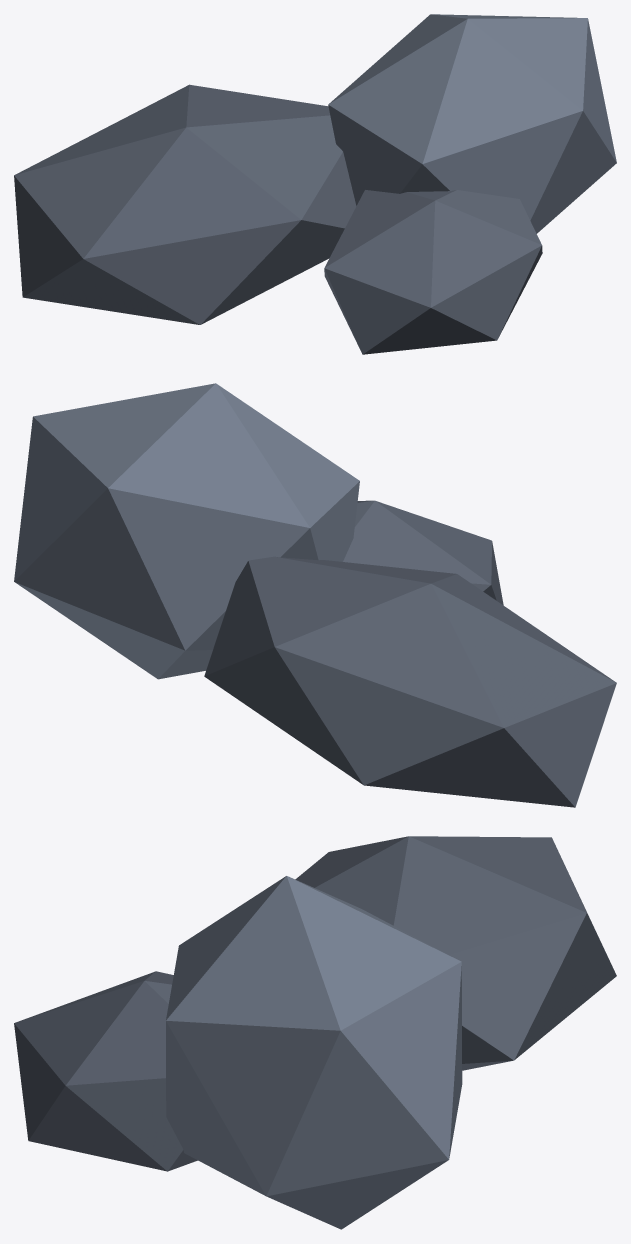
Rendered from EXTW_WestCluster_00.glb.
3 views of the same model, one above another, from view 1: azimuth 30°, elevation 25°; view 2: azimuth 150°, elevation 25°; view 3: azimuth 270°, elevation 25° (orthographic). The views are drawn at different scales.
Visible parts, largest first — view 1: EXTW_WestCluster_00; view 2: EXTW_WestCluster_00; view 3: EXTW_WestCluster_00.
Part boxes in pixels (bbox=[...]): EXTW_WestCluster_00: bbox=[14, 14, 616, 354]; EXTW_WestCluster_00: bbox=[14, 383, 616, 807]; EXTW_WestCluster_00: bbox=[14, 836, 616, 1229].
Bounding box in the file's own units: 1.96 × 0.9111 × 1.48.
